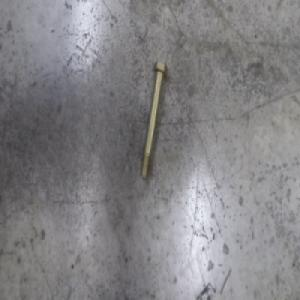Bolt: (139, 60, 168, 181)
